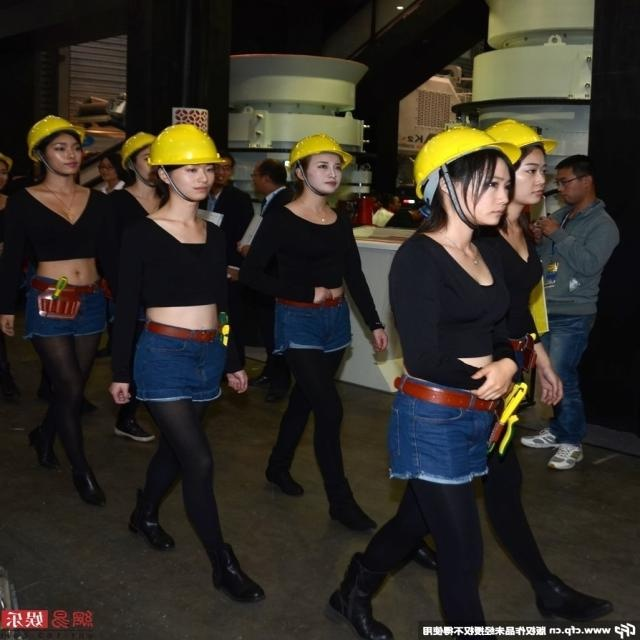Con_Casco: (149, 124, 226, 201), (285, 135, 355, 195)
